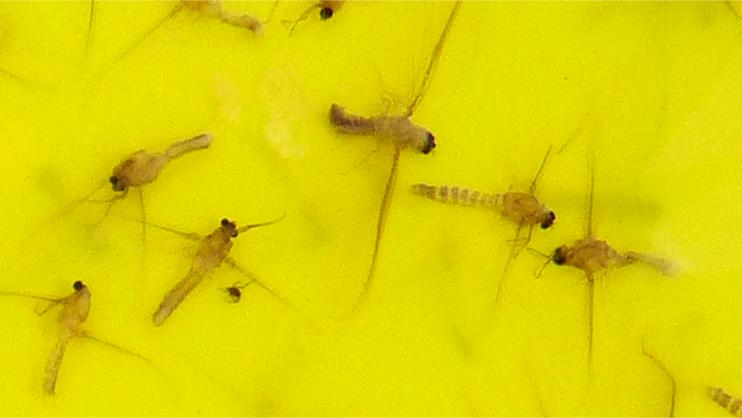Brachycera: (224, 283, 243, 304)
Ephemeroptera: (325, 100, 438, 234), (152, 215, 242, 318), (399, 178, 559, 235), (100, 128, 217, 198), (34, 278, 98, 399), (544, 224, 642, 288), (169, 1, 268, 42)
